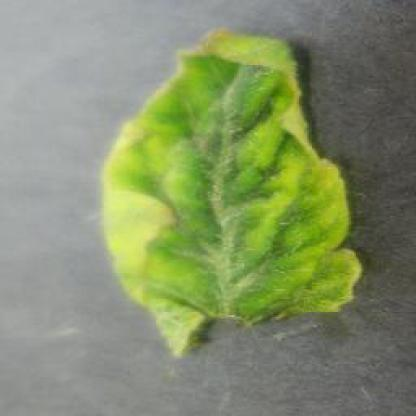bad leaf: (89, 15, 368, 370)
